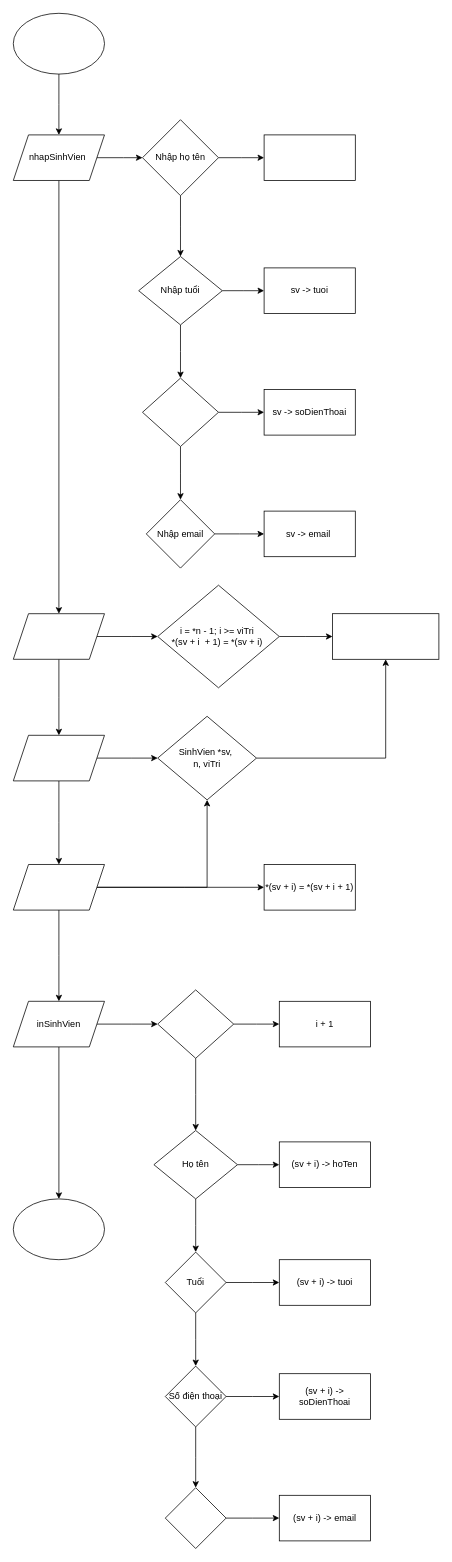
Image size: 452x1562. Some labels were removed from this diagram. The centre of each missing label's shape, as x and y in pixels:
"Email" belongs at (195,1517).
"End" belongs at (58,1229).
"nhapSinhvien(sv + viTri)" belongs at (385,636).
"Nhập số điện thoại" belongs at (180,411).
"Sinh viên thứ" belongs at (195,1023).
"start" belongs at (58,43).
"suaSinhVien" belongs at (58,758).
"sv -> hoTen" belongs at (309,157).
"themSinhVien" belongs at (58,636).
"xoaSinhVien" belongs at (58,887).
